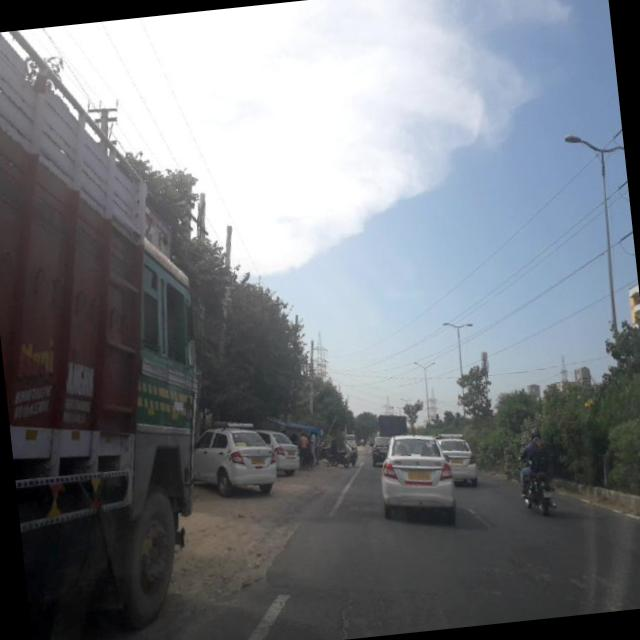crack: (267, 557, 461, 634)
